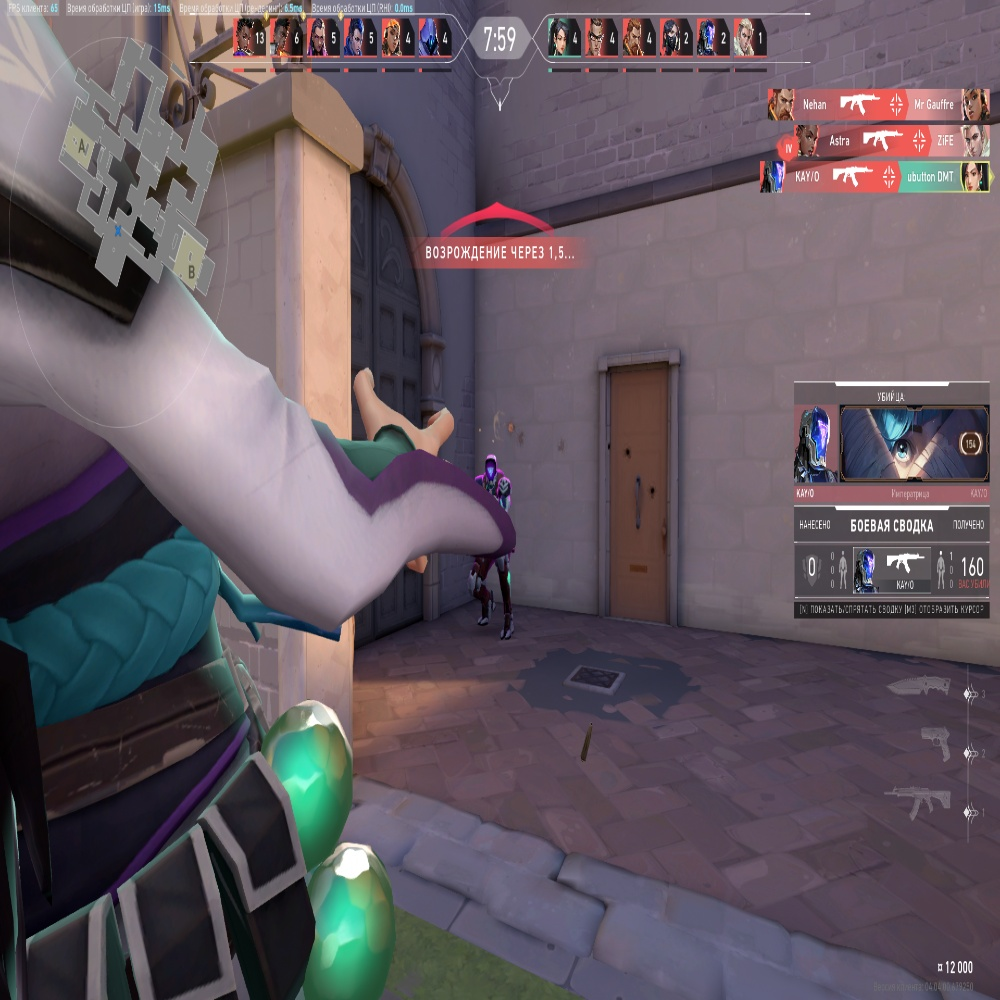body: (477, 477, 511, 494)
head: (485, 458, 496, 479)
